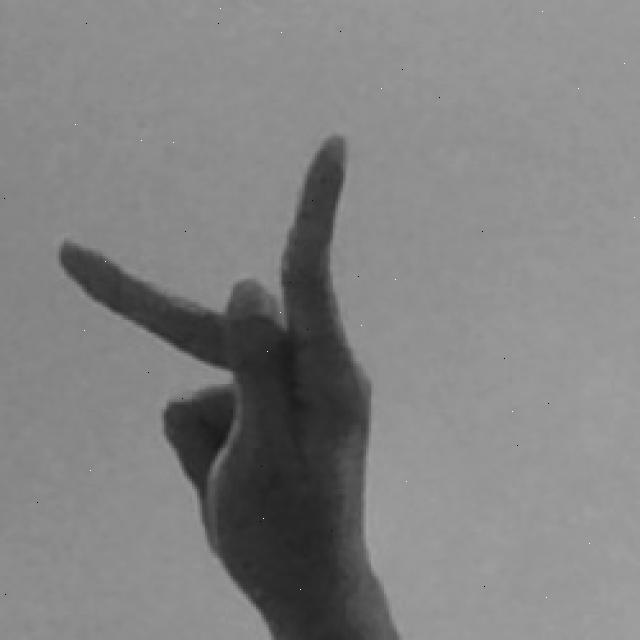K: (55, 133, 420, 640)
